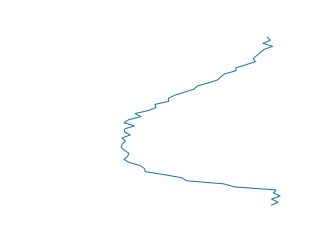underwaterDistributaryChannel: (115, 39, 286, 206)
